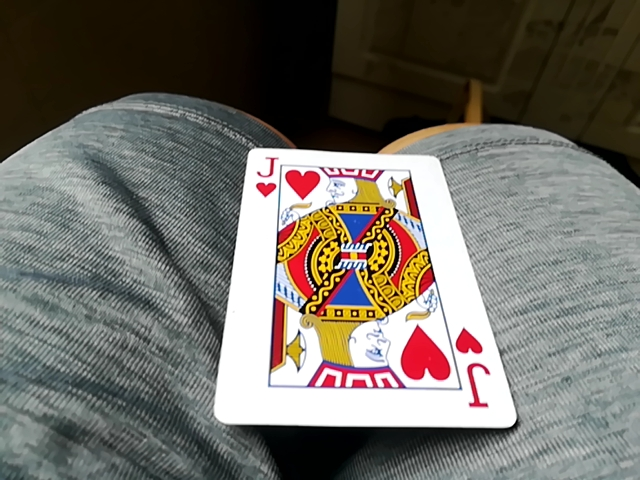hx j: (223, 147, 511, 434)
